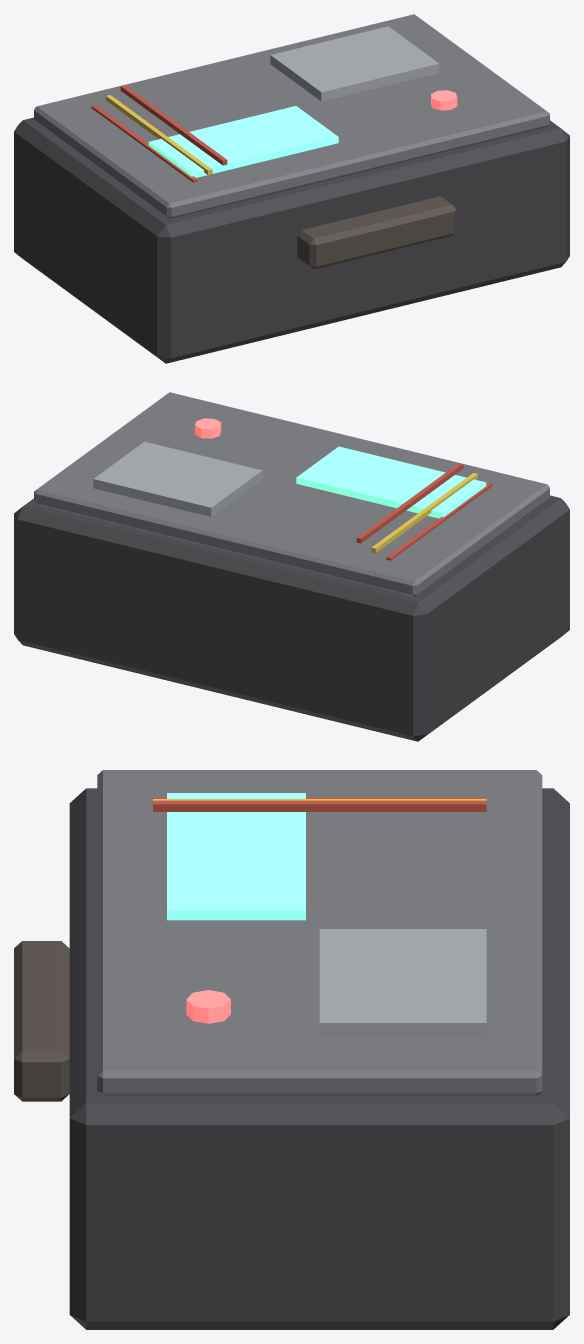
Rendered from bomb.glb.
3 renders of one model, top to bottom at view 1: azimuth 30°, elevation 25°; view 2: azimuth 150°, elevation 25°; view 3: azimuth 270°, elevation 25°, orthographic. The views are drawn at different scales.
Parts seen in each view (by area): view 1: obj_bomb; view 2: obj_bomb; view 3: obj_bomb.
Part boxes in pixels (left/top/right/bottom): obj_bomb: left=14, top=14, right=569, bottom=363; obj_bomb: left=14, top=392, right=569, bottom=741; obj_bomb: left=14, top=770, right=569, bottom=1329.
Size of what is drawn, in the model's own units: 0.28 by 0.1095 by 0.2.
